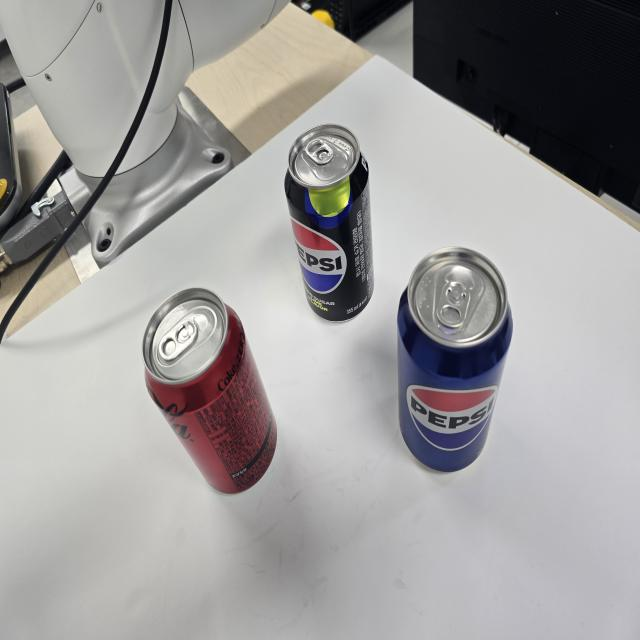can_coke_zero: (144, 287, 280, 494)
can_pepsi: (397, 246, 512, 474)
can_pepsi_zero: (284, 125, 375, 323)
